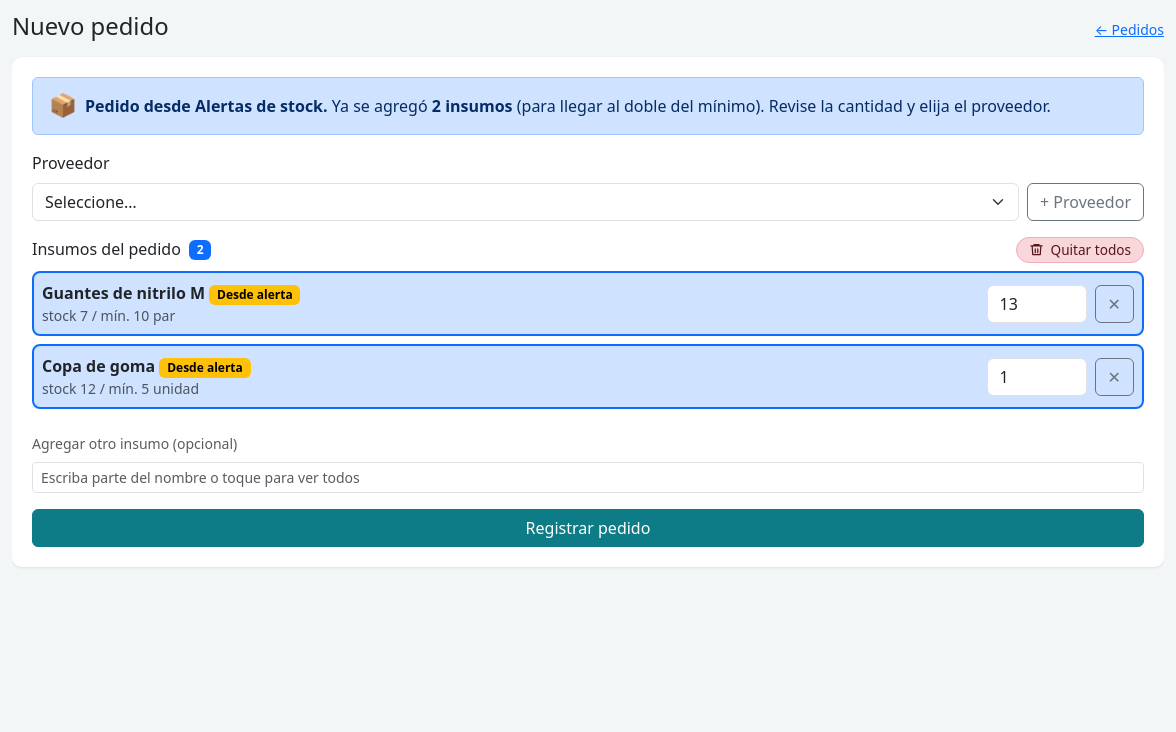
Test: Quitar todos (Nuevo pedido) › quita todos de golpe y «Deshacer» los devuelve con sus cantidades
Replace the text in the field named "Cantidad de Copa de goma" with "7" at (1037, 377), box [987,358,1087,396]
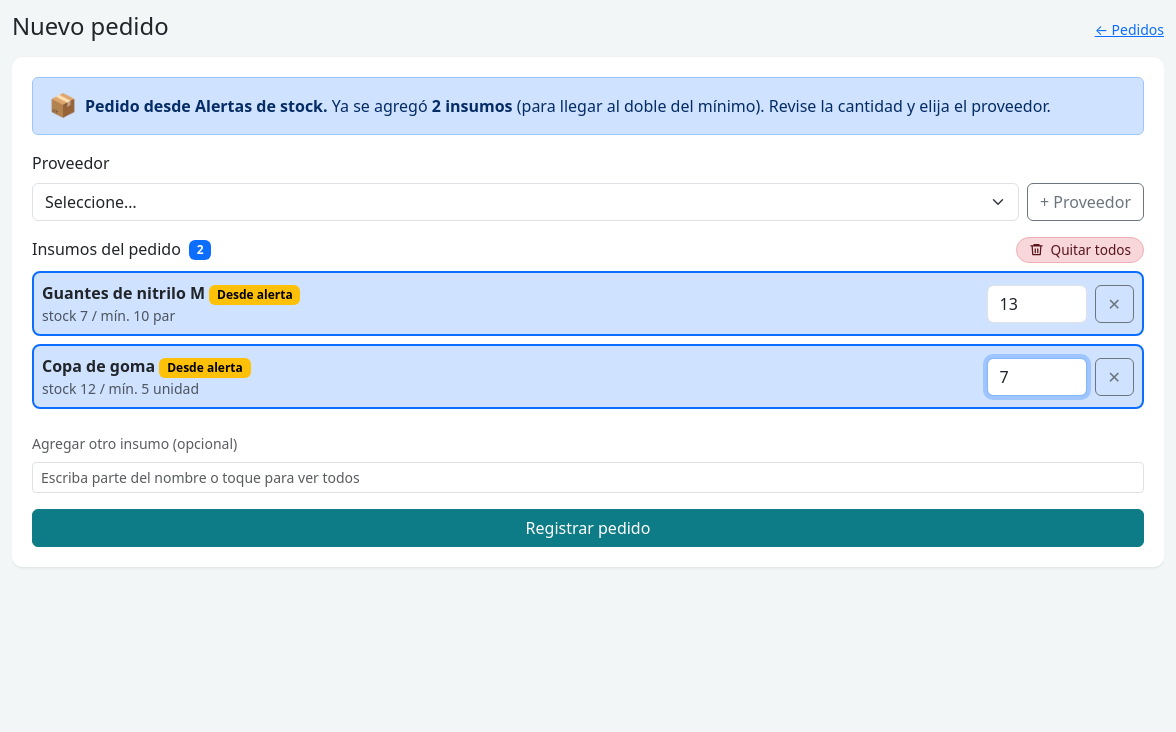
Click the button "Quitar todos".
click(1080, 250)  # box [1016,237,1144,263]
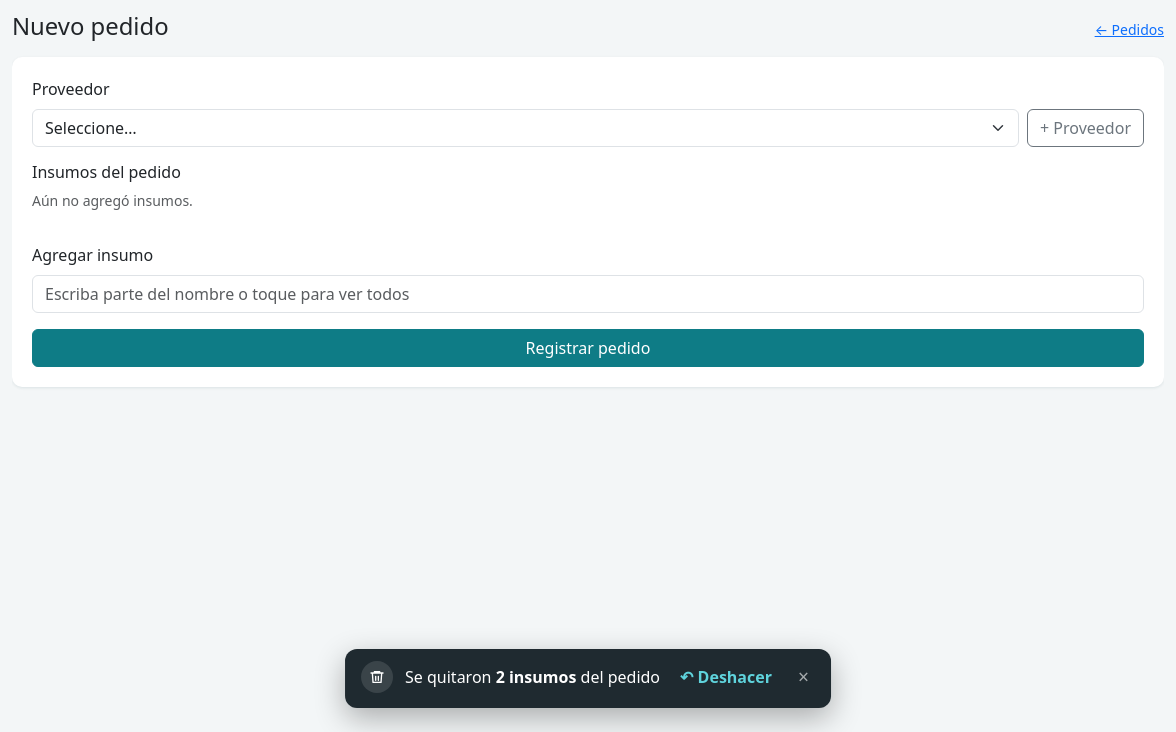
Check: the message shows "Se quitaron 2 insumos del pedido", box [345,649,831,708]
Click the button "↶ Deshacer".
click(726, 677)  # box [672,661,780,693]
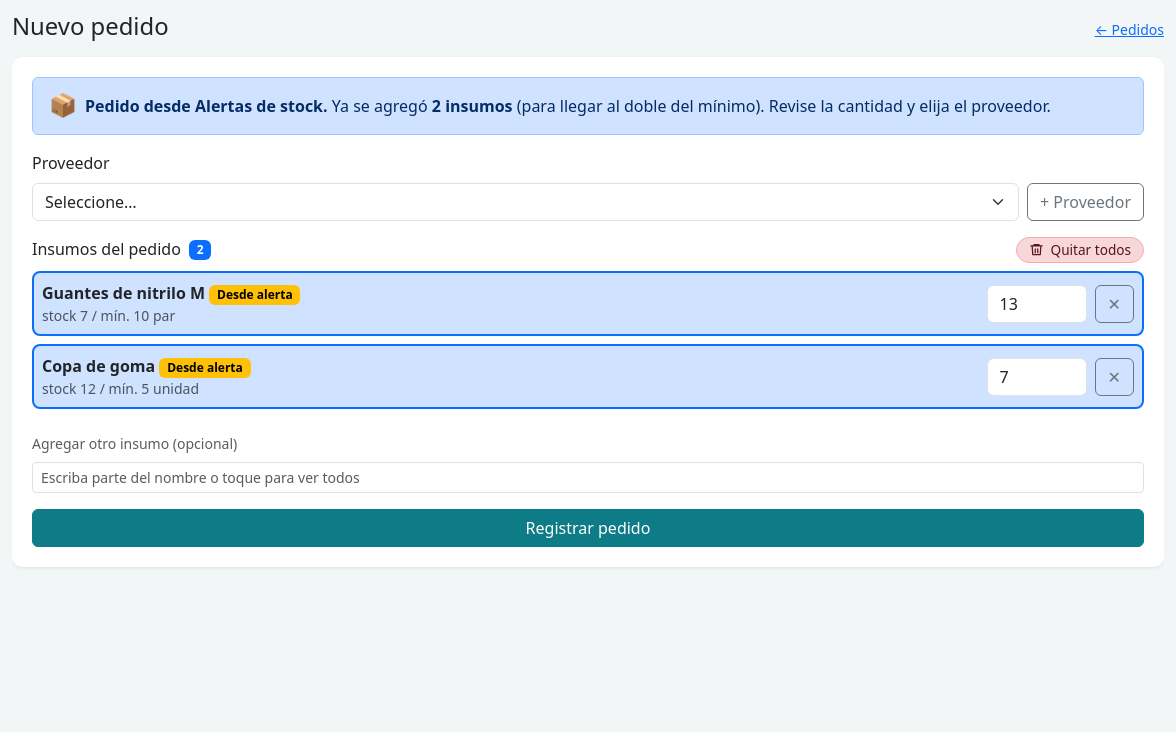
Check: the field named "Cantidad de Copa de goma" holds "7", box [987,358,1087,396]
Check: the field named "Cantidad de Guantes de nitrilo M" is shown, box [987,284,1087,322]
